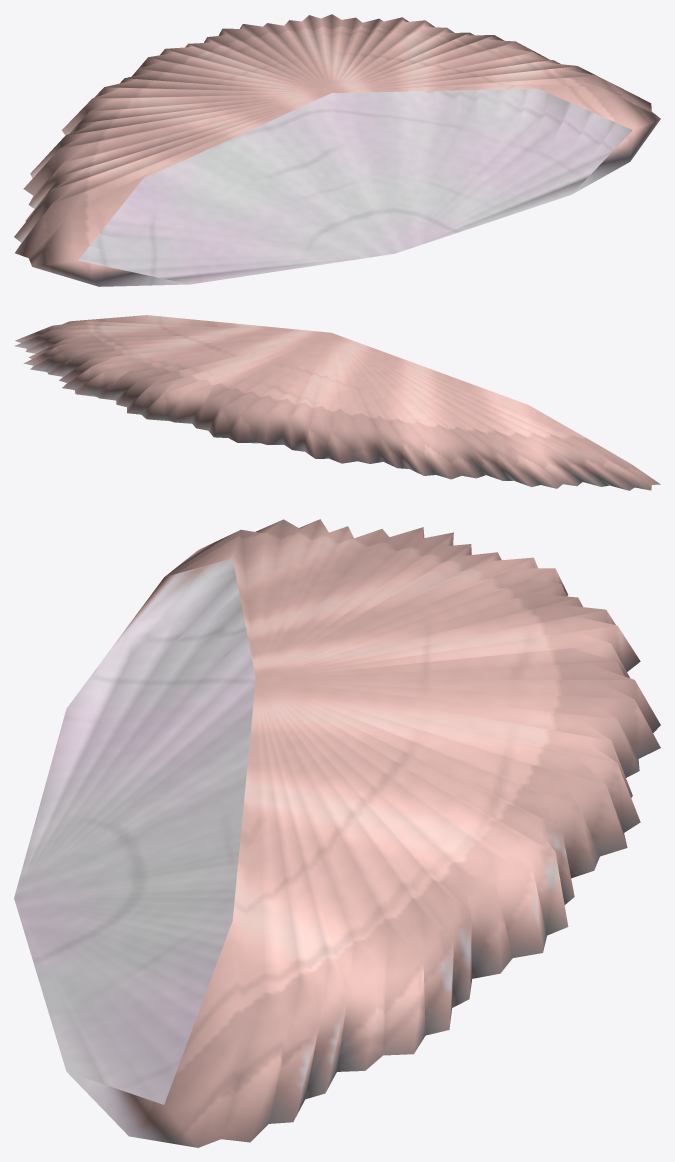
The model's file is shell.glb.
The picture shows the model from 3 angles, top to bottom: view 1: azimuth 30°, elevation 25°; view 2: azimuth 150°, elevation 25°; view 3: azimuth 270°, elevation 25°; orthographic projection. The views are drawn at different scales.
Visible parts, largest first — view 1: Shell; view 2: Shell; view 3: Shell.
Part boxes in pixels (x1,y1,x2,y2): Shell: (14,14,660,286); Shell: (14,315,660,490); Shell: (14,519,660,1147).
Size of the model in its own units: 0.2328 by 0.04 by 0.107.
Materials: 1 (1 with a texture image).
